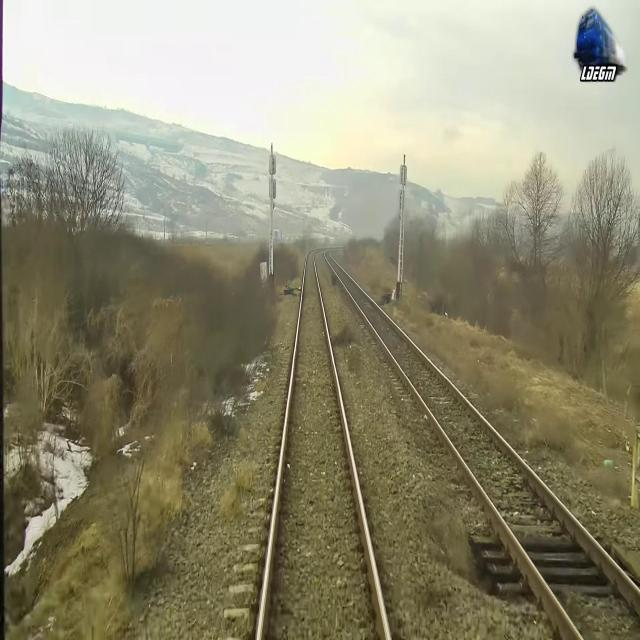rail-track: (326, 251, 640, 639), (260, 250, 386, 639)
